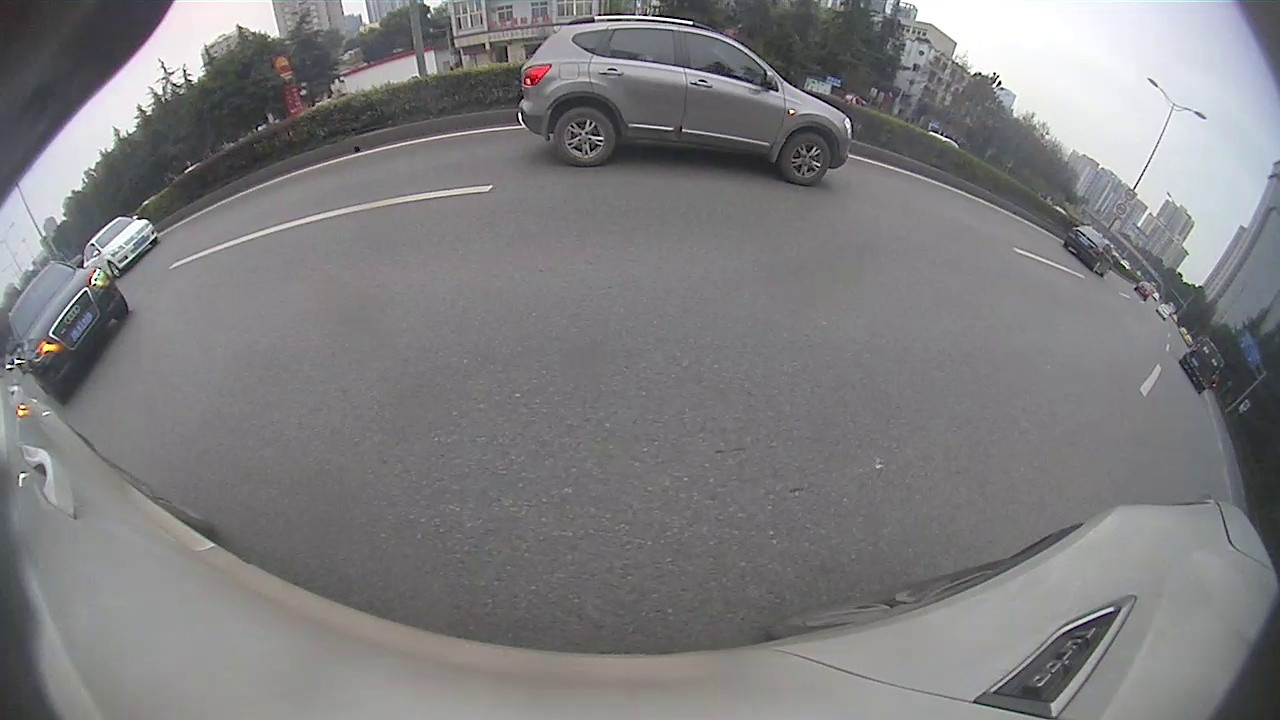car: (516, 15, 852, 185), (5, 259, 129, 403), (82, 216, 157, 278), (1179, 335, 1225, 393), (1064, 225, 1114, 276)
front: (776, 130, 833, 185), (108, 261, 123, 280)
rear: (551, 105, 618, 168)
